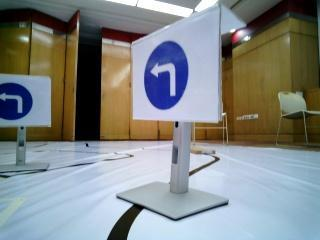left: (135, 38, 211, 115), (0, 74, 51, 128)
